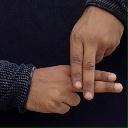hand: (69, 5, 124, 100), (24, 64, 123, 114)
